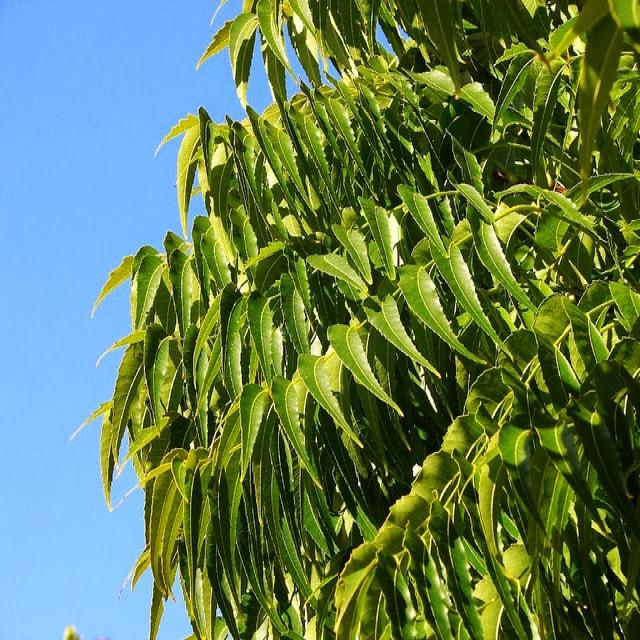Medicinal-Neem: (99, 4, 640, 639)
